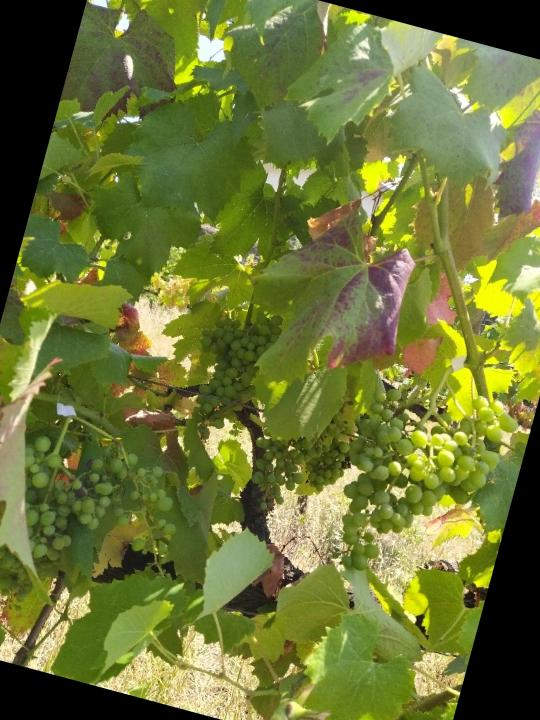grape: (317, 365, 527, 604), (0, 411, 202, 647), (177, 296, 292, 449)
